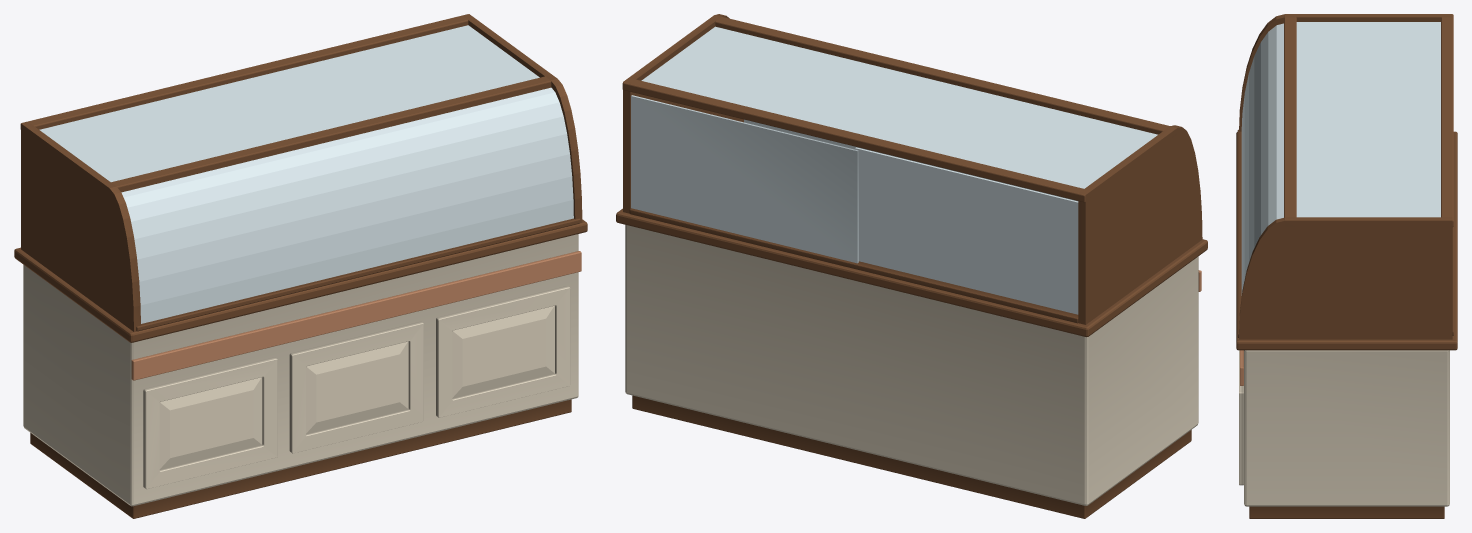
Rendered from bakeryCase.glb.
3 views of the same model, side by side, from view 1: azimuth 30°, elevation 25°; view 2: azimuth 150°, elevation 25°; view 3: azimuth 270°, elevation 25° (orthographic). The views are drawn at different scales.
Visible parts, largest first — view 1: case; view 2: case, back_door; view 3: case.
Part boxes in pixels (x1=…): case: x1=14, y1=14, x2=587, y2=518; case: x1=616, y1=14, x2=1207, y2=518; back_door: x1=855, y1=147, x2=1078, y2=314; case: x1=1236, y1=14, x2=1457, y2=518.
Size of the model in its own units: 1.94 by 1.29 by 0.86.
